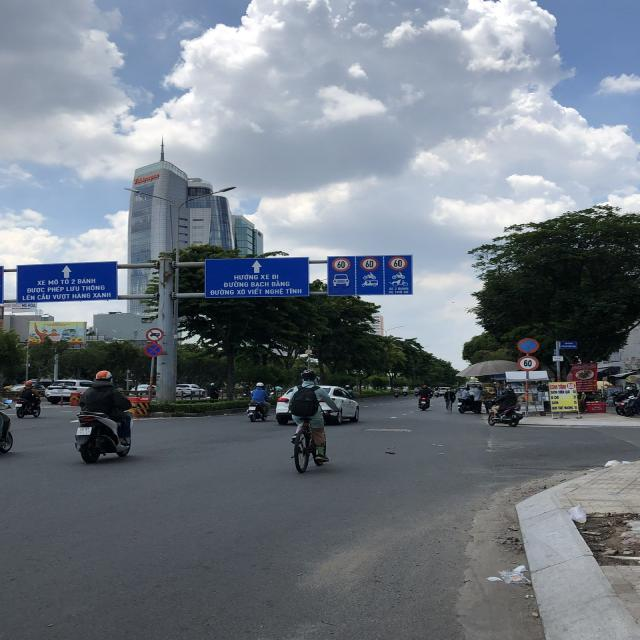Bien bao cam dung xe va do xe: (143, 341, 164, 358)
Bien bao cam xe oto tai: (145, 326, 164, 342)
Bien bao toc do toi da cho phep: (387, 254, 410, 272), (329, 256, 351, 272), (517, 355, 540, 370), (358, 256, 378, 271)
